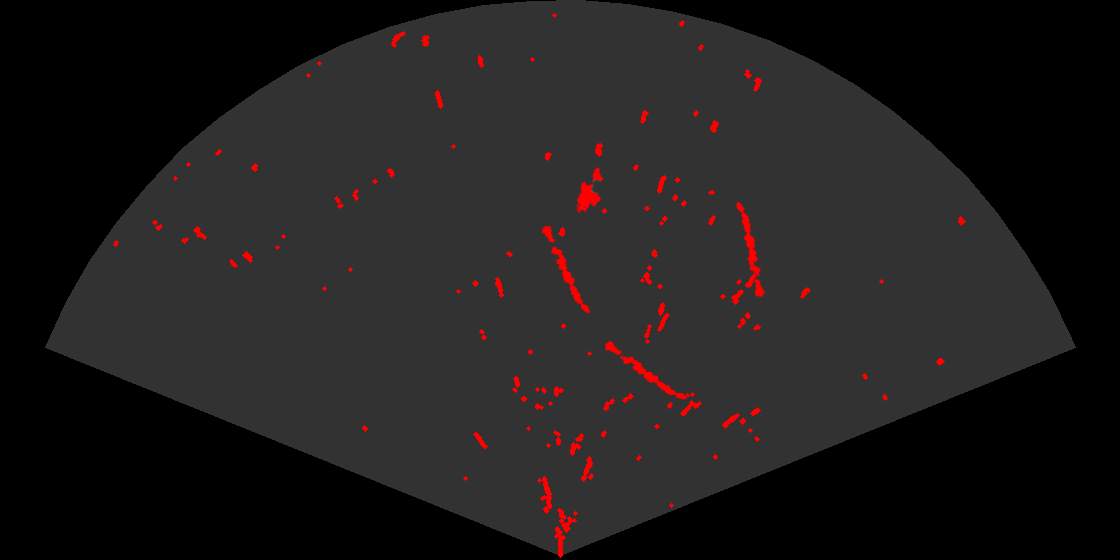AUV: (575, 165, 605, 213)
chain: (603, 339, 688, 401), (540, 224, 592, 315), (735, 200, 767, 300)
